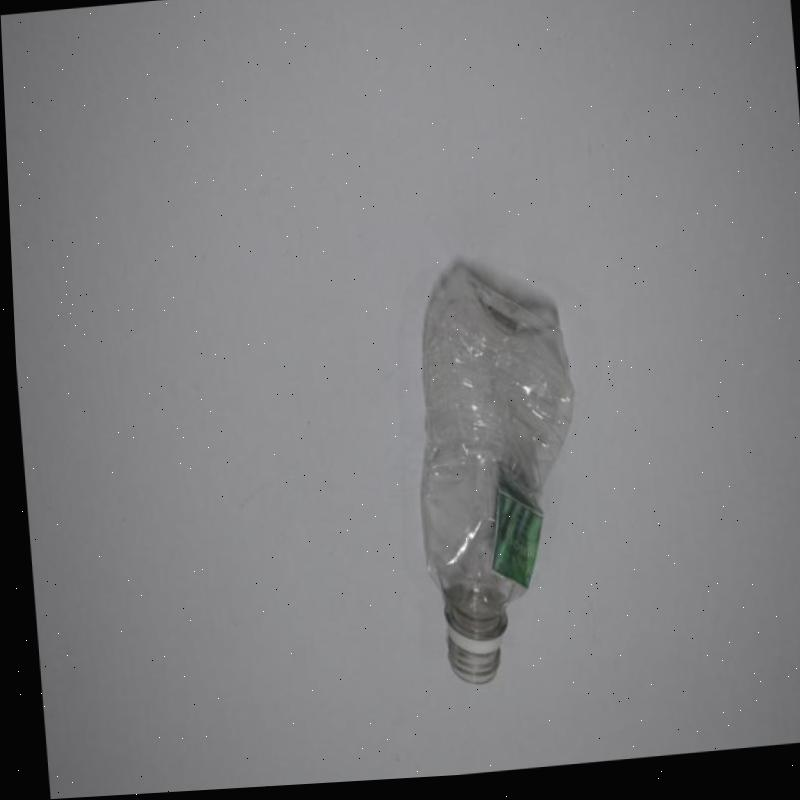botella: (398, 260, 589, 695)
